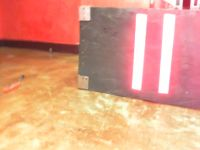switch: (158, 13, 175, 94), (131, 14, 147, 91)
